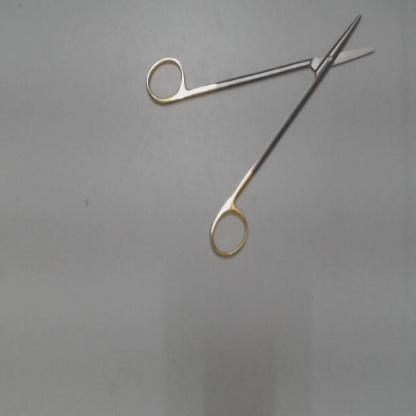7 Metzenbaum Scissors: (143, 9, 378, 267)
